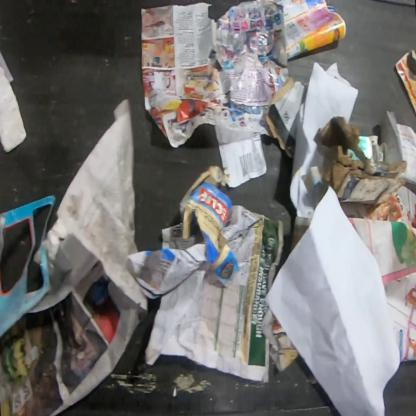cardboard: (313, 115, 407, 207), (0, 194, 57, 341), (264, 75, 306, 158), (358, 134, 389, 162)
soft_plastic: (179, 164, 241, 290)
